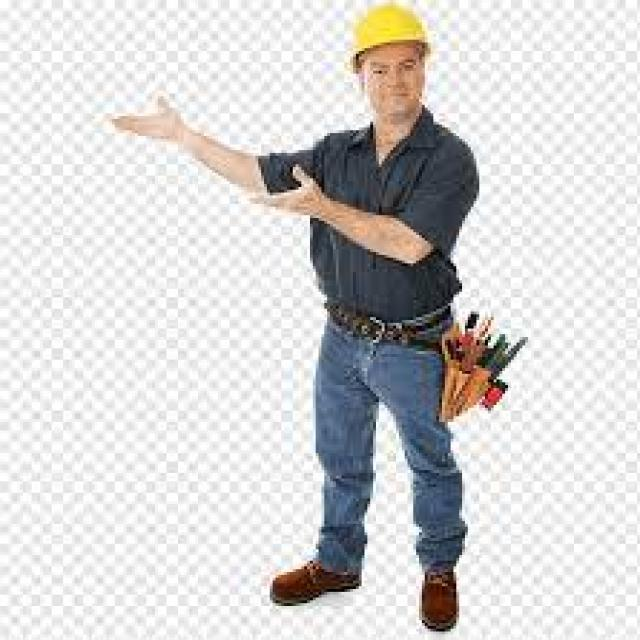safety_helmet: (333, 0, 448, 68)
